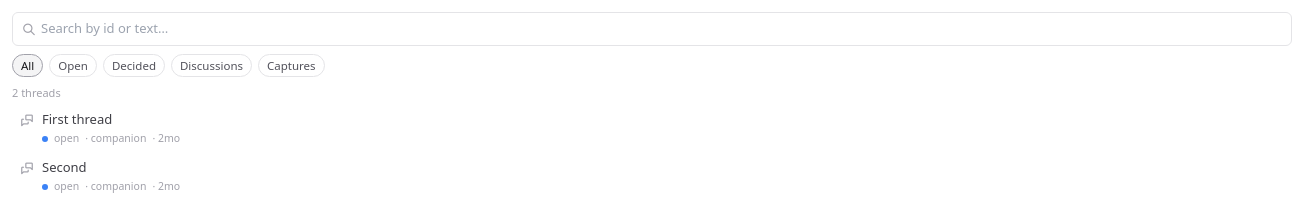
it: ConversationList › searches by title text
Step 1. Type "second" into the field named "Search conversations" → (652, 29), box [12,12,1292,46]
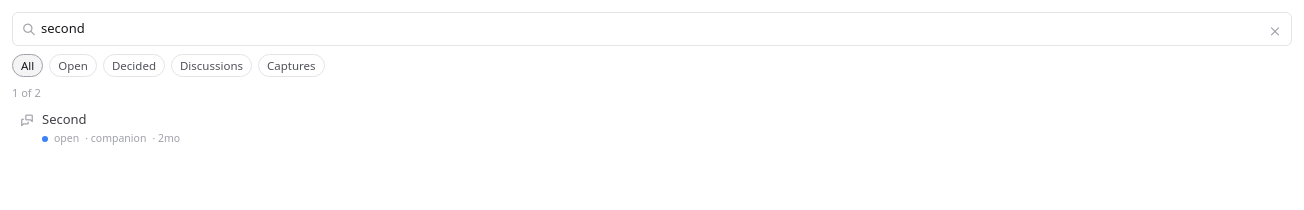
Expected: the text "Second" is shown, [42,110,87,128]
Expected: the button "First thread" is gone
Expected: the text "1 of 2" is shown, [12,85,41,100]
